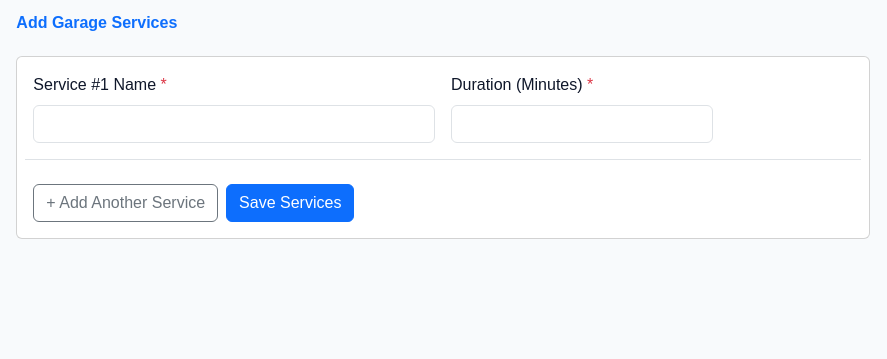
Test: ServiceManager Component › allows adding and removing service rows
The width and height of the screenshot is (887, 359).
Click the button "+ Add Another Service".
click(126, 203)  # box [33, 184, 218, 222]
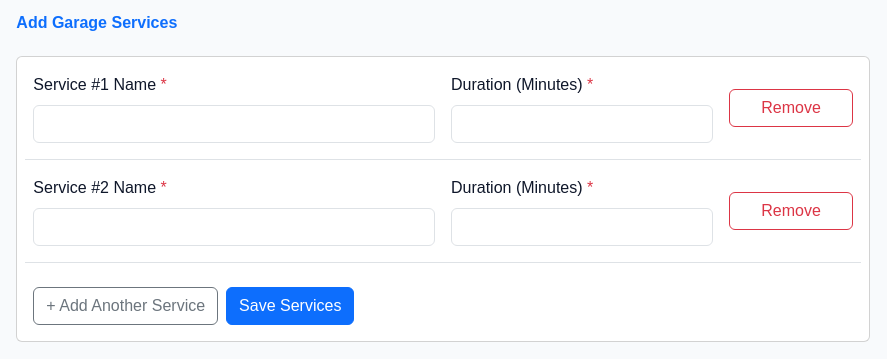
Now the text "Service #2 Name" is shown, box [33, 176, 167, 200]
Now the number of buttons "Remove" is 2
Click the 1st button "Remove".
click(791, 108)  # box [729, 89, 853, 127]
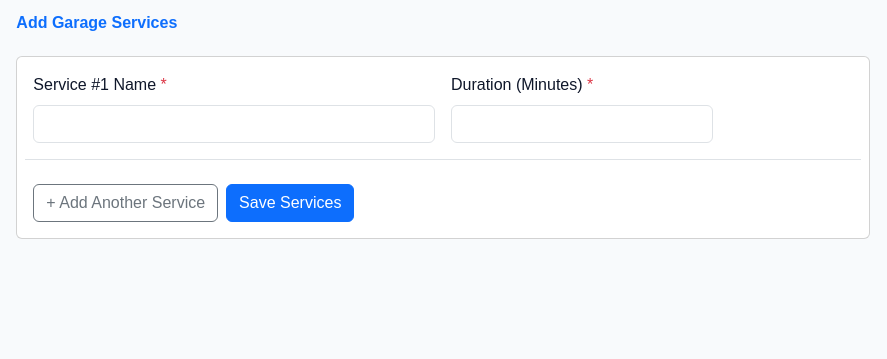
Now the text "Service #2 Name" is gone
Now the button "Remove" is gone
